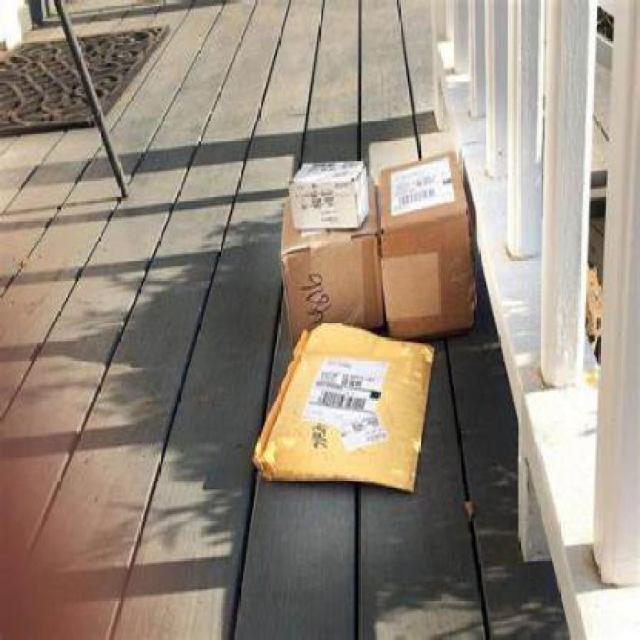cardboxes: (378, 147, 478, 348), (280, 180, 378, 374), (286, 157, 372, 228)
